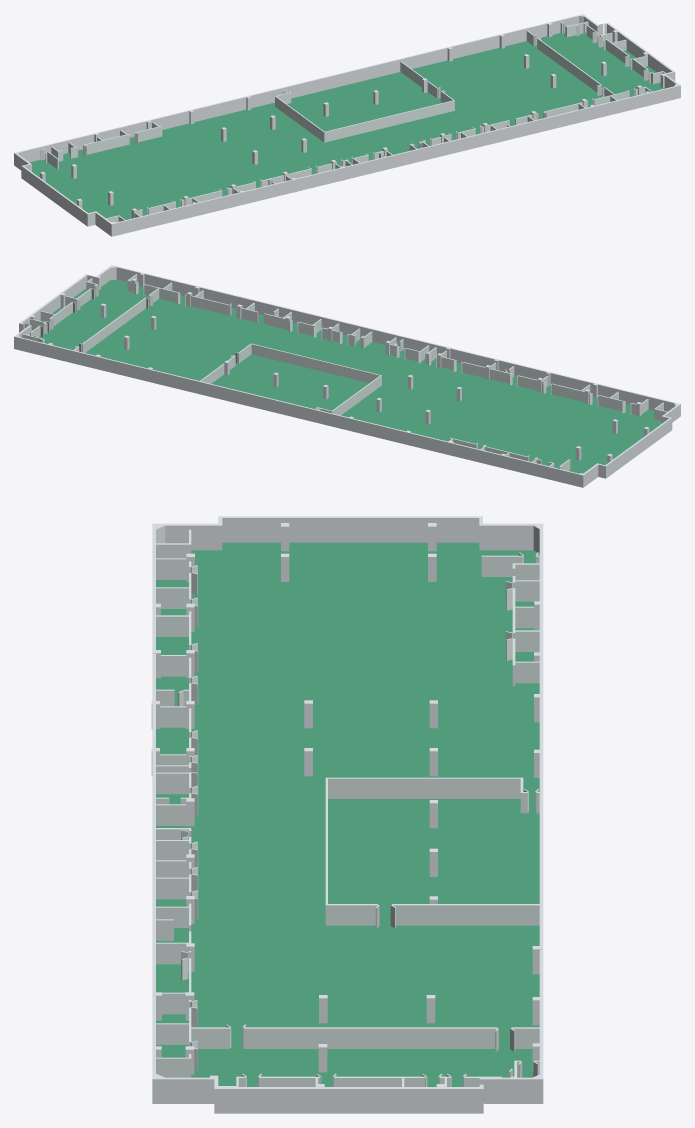
Rendered from wall.glb.
3 views of the same model, one above another, from view 1: azimuth 30°, elevation 25°; view 2: azimuth 150°, elevation 25°; view 3: azimuth 270°, elevation 25° (orthographic). The views are drawn at different scales.
Visible parts, largest first — view 1: 平面.1, 立方体.1, 立方体.65, 立方体.58, 立方体.66, 立方体.72, 立方体.63; view 2: 平面.1, 立方体.1, 立方体.65, 立方体.58, 立方体.66, 立方体.6, 立方体.39, 立方体.9; view 3: 平面.1, 立方体.1, 立方体.58, 立方体.66, 立方体.63, 立方体.64, 立方体.48.
Part boxes in pixels (x1,y1,x2,y2): 平面.1: (30,32,664,223); 立方体.1: (14,14,680,236); 立方体.65: (323,100,454,142); 立方体.58: (537,38,601,94); 立方体.66: (275,96,324,141); 立方体.72: (83,134,129,154); 立方体.63: (400,61,438,98); 平面.1: (31,279,661,473); 立方体.1: (14,265,680,487); 立方体.65: (251,343,381,385); 立方体.58: (82,297,146,352); 立方体.66: (331,375,381,415); 立方体.6: (462,362,512,383); 立方体.39: (186,294,230,315); 立方体.9: (551,383,592,402); 平面.1: (156,542,539,1102); 立方体.1: (152,516,543,1113); 立方体.58: (244,1027,497,1048); 立方体.66: (328,777,520,798); 立方体.63: (392,904,539,925); 立方体.64: (325,904,377,925); 立方体.48: (334,1076,425,1086).
Size of the model in its own units: 5065 by 103 by 1464.
